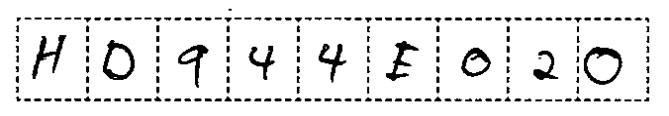0: (581, 41, 629, 88), (459, 43, 495, 84)
2: (528, 43, 562, 88)
4: (310, 40, 353, 85), (241, 42, 280, 84)
9: (171, 40, 214, 91)
E: (380, 33, 428, 87)
H: (30, 29, 69, 80)
O: (95, 32, 142, 84)
